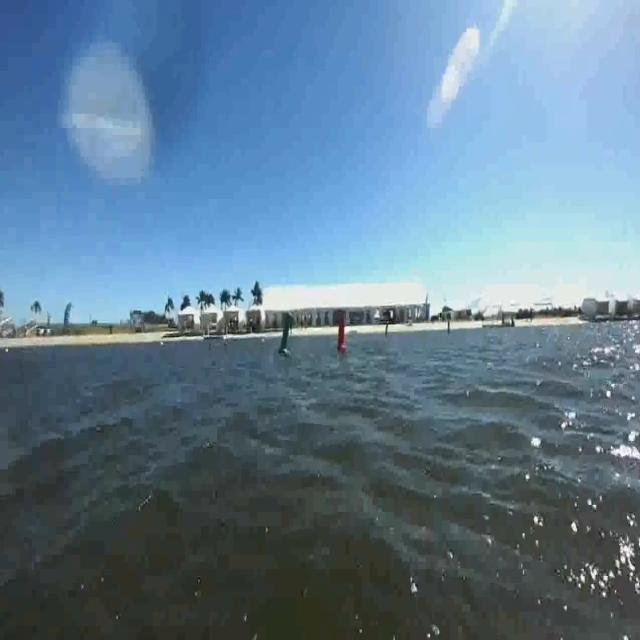green-column-buoy: (278, 316, 294, 356)
red-column-buoy: (337, 318, 350, 354)
